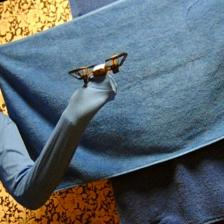drone: (68, 52, 127, 87)
